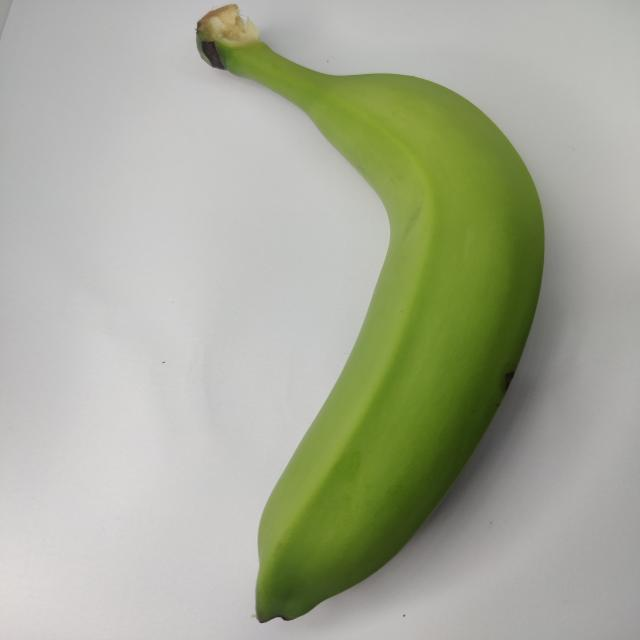raw: (83, 0, 590, 623)
